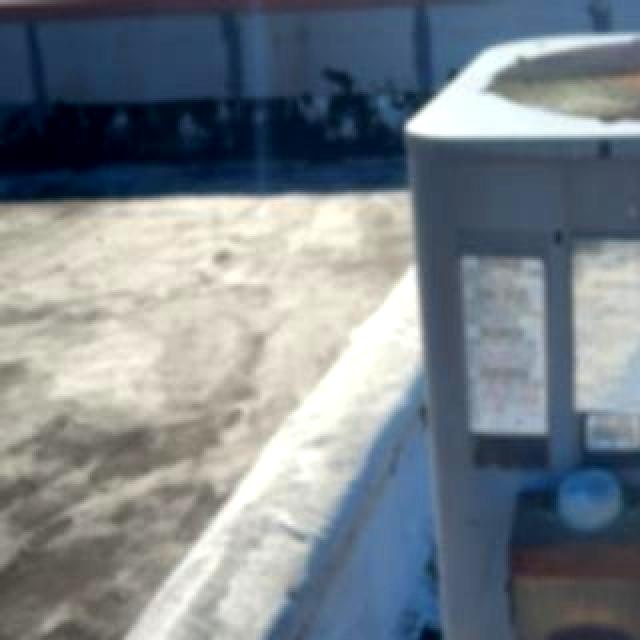SPLIT-SYSTEM: (370, 24, 640, 640)
